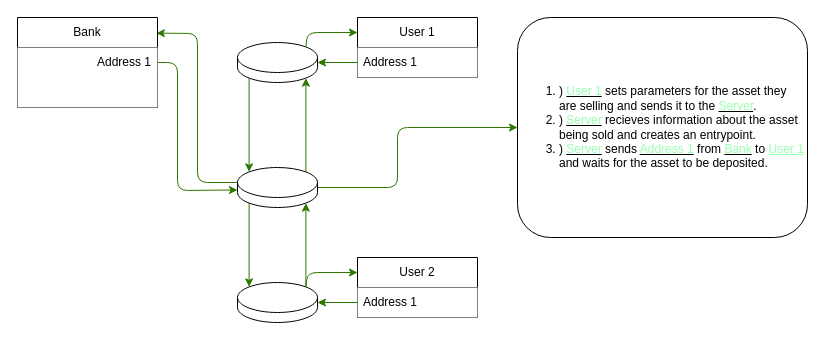
Image size: 825x354. Some labels were removed from this diagram. The centre of each missing label's shape, as x and y in pixels:
Address 2: the point at 87,92
End: the point at 277,302
Server: the point at 277,187
Start: the point at 277,62
